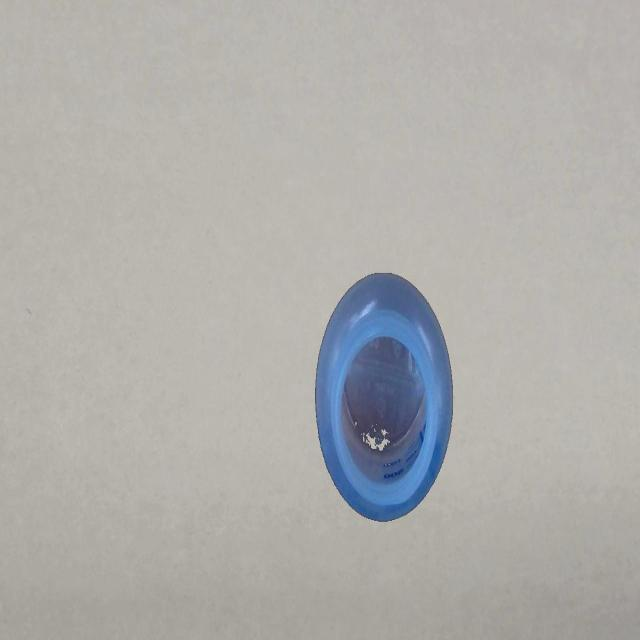bottle: (314, 269, 454, 523)
